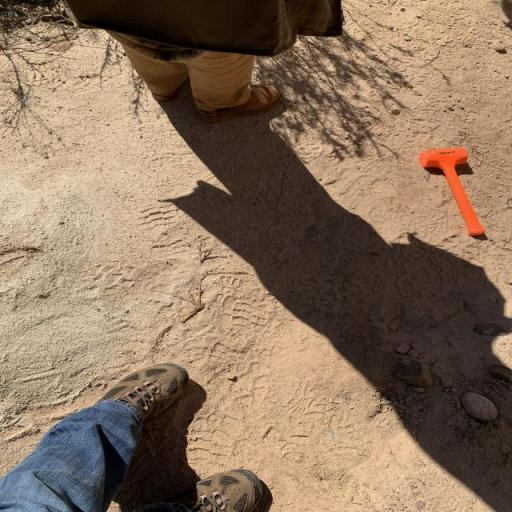mallet: (419, 147, 486, 236)
